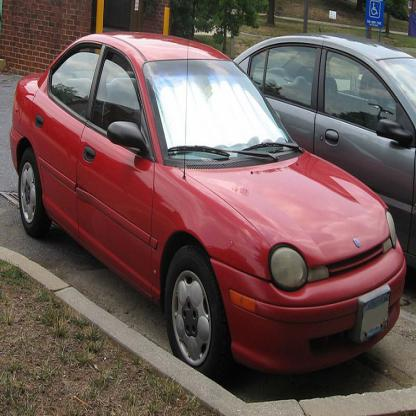Vehicle: (7, 27, 408, 391)
